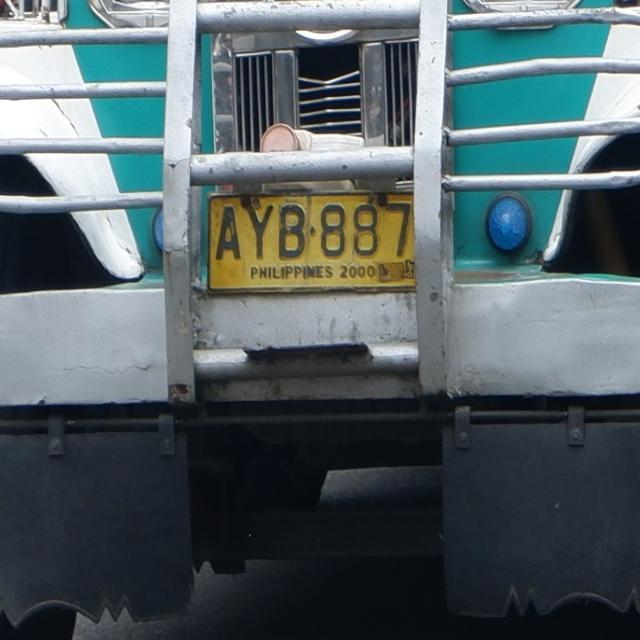LicensePlate: (197, 179, 433, 309)
